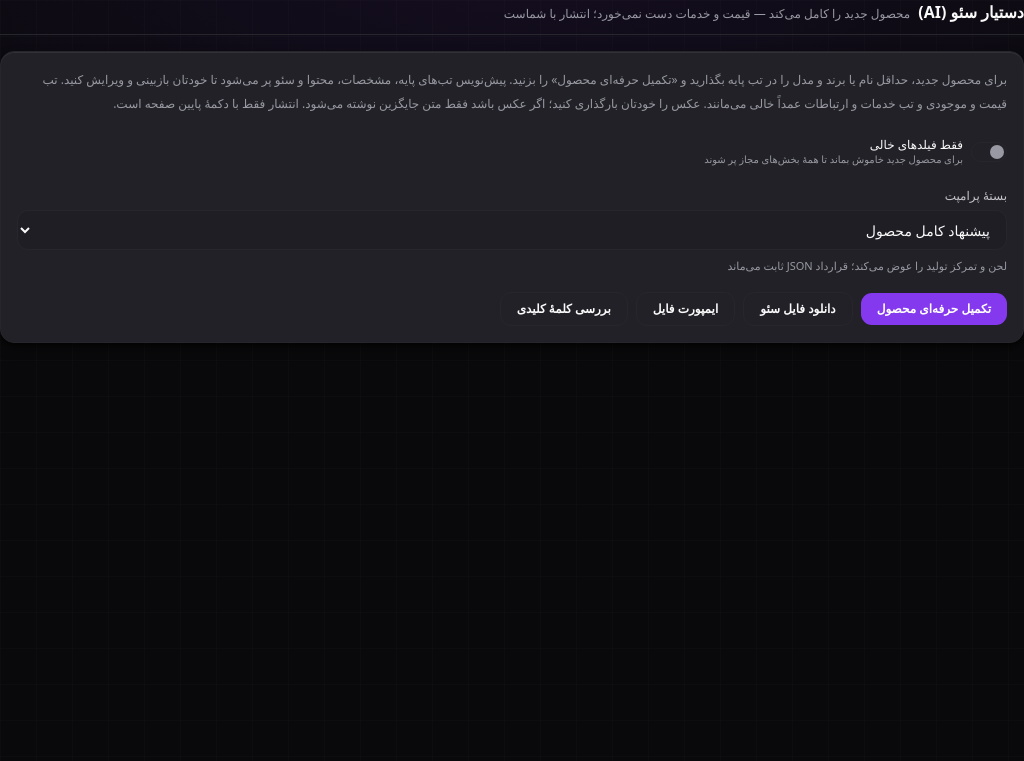
SeoAiPanel › تولید را صدا می‌زند و اعمال فیلد draft را عوض می‌کند
The image size is (1024, 761).
What coordinates should you click on to do the following:
click the button "تکمیل حرفه‌ای محصول"
I would click on:
 (934, 309)
Its box is [861,293,1007,325].
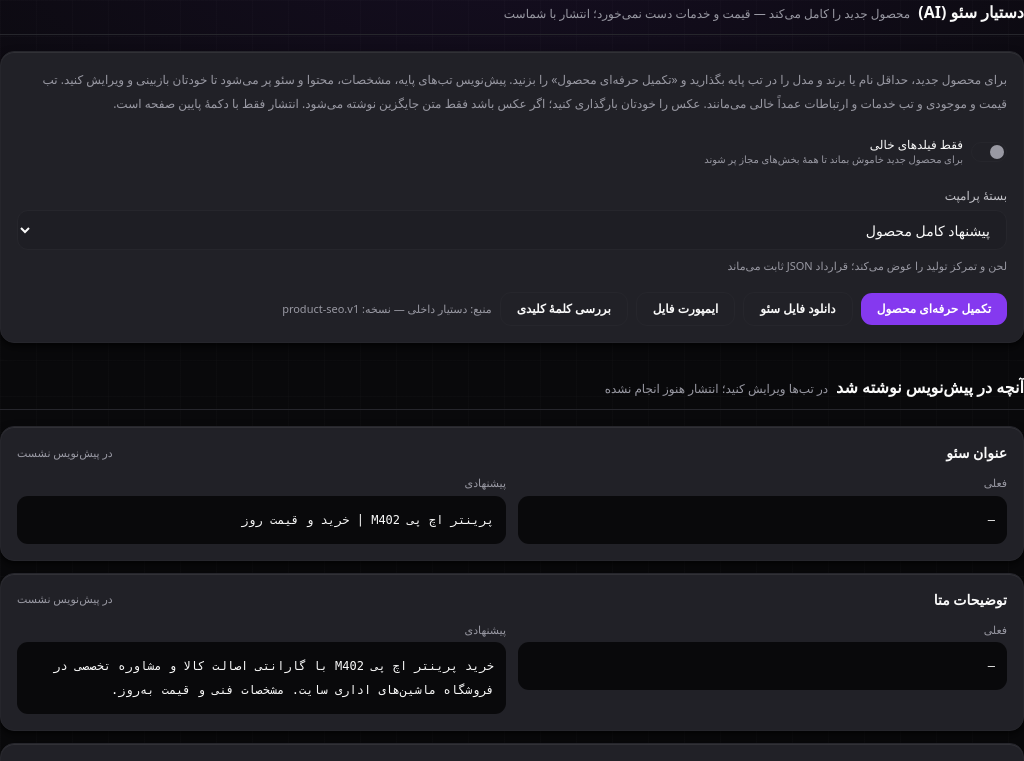
Result: the heading "عنوان سئو" is shown at [946,443,1007,463]
